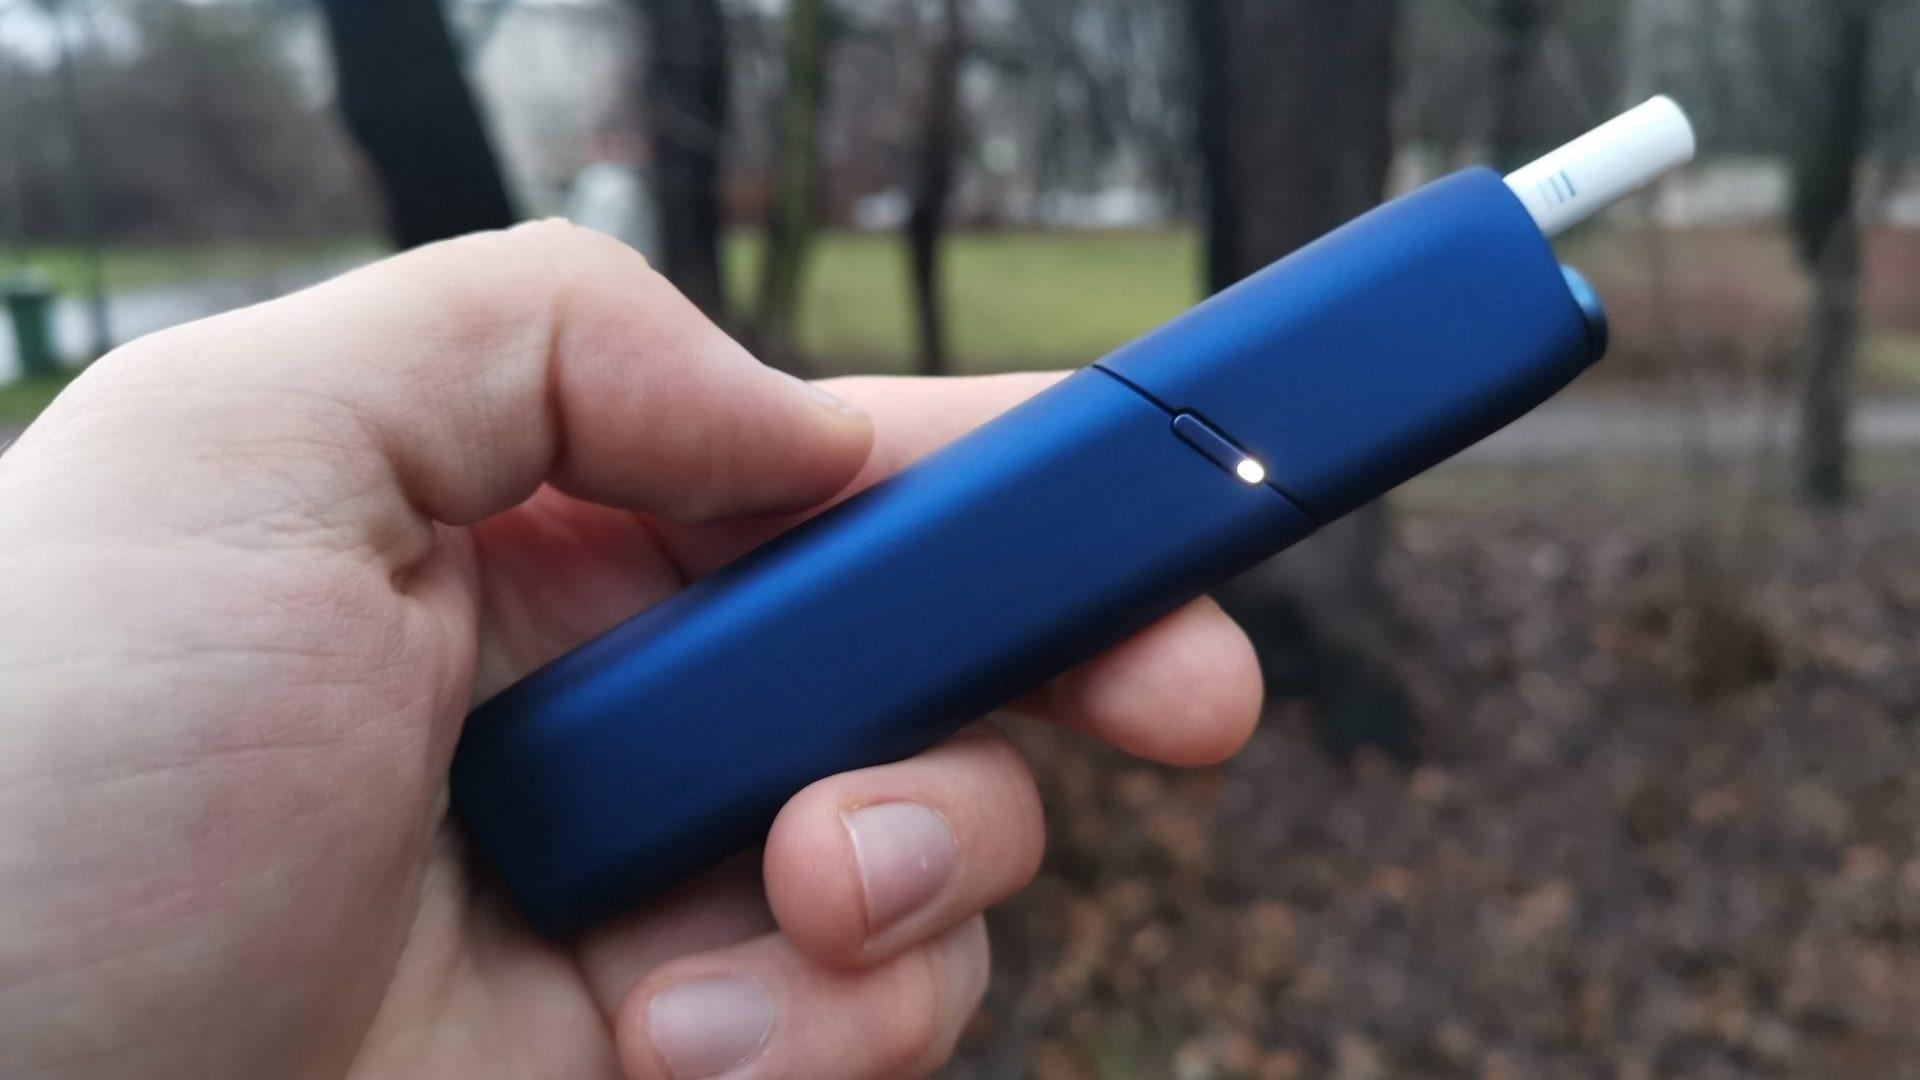iqos: (454, 98, 1691, 934)
